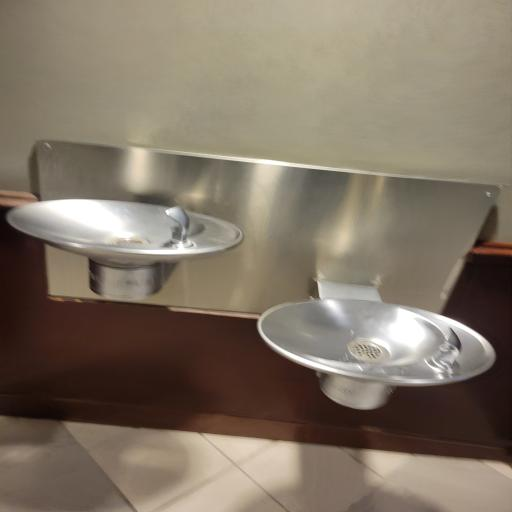water fountain: (4, 133, 254, 306), (251, 262, 508, 418)
